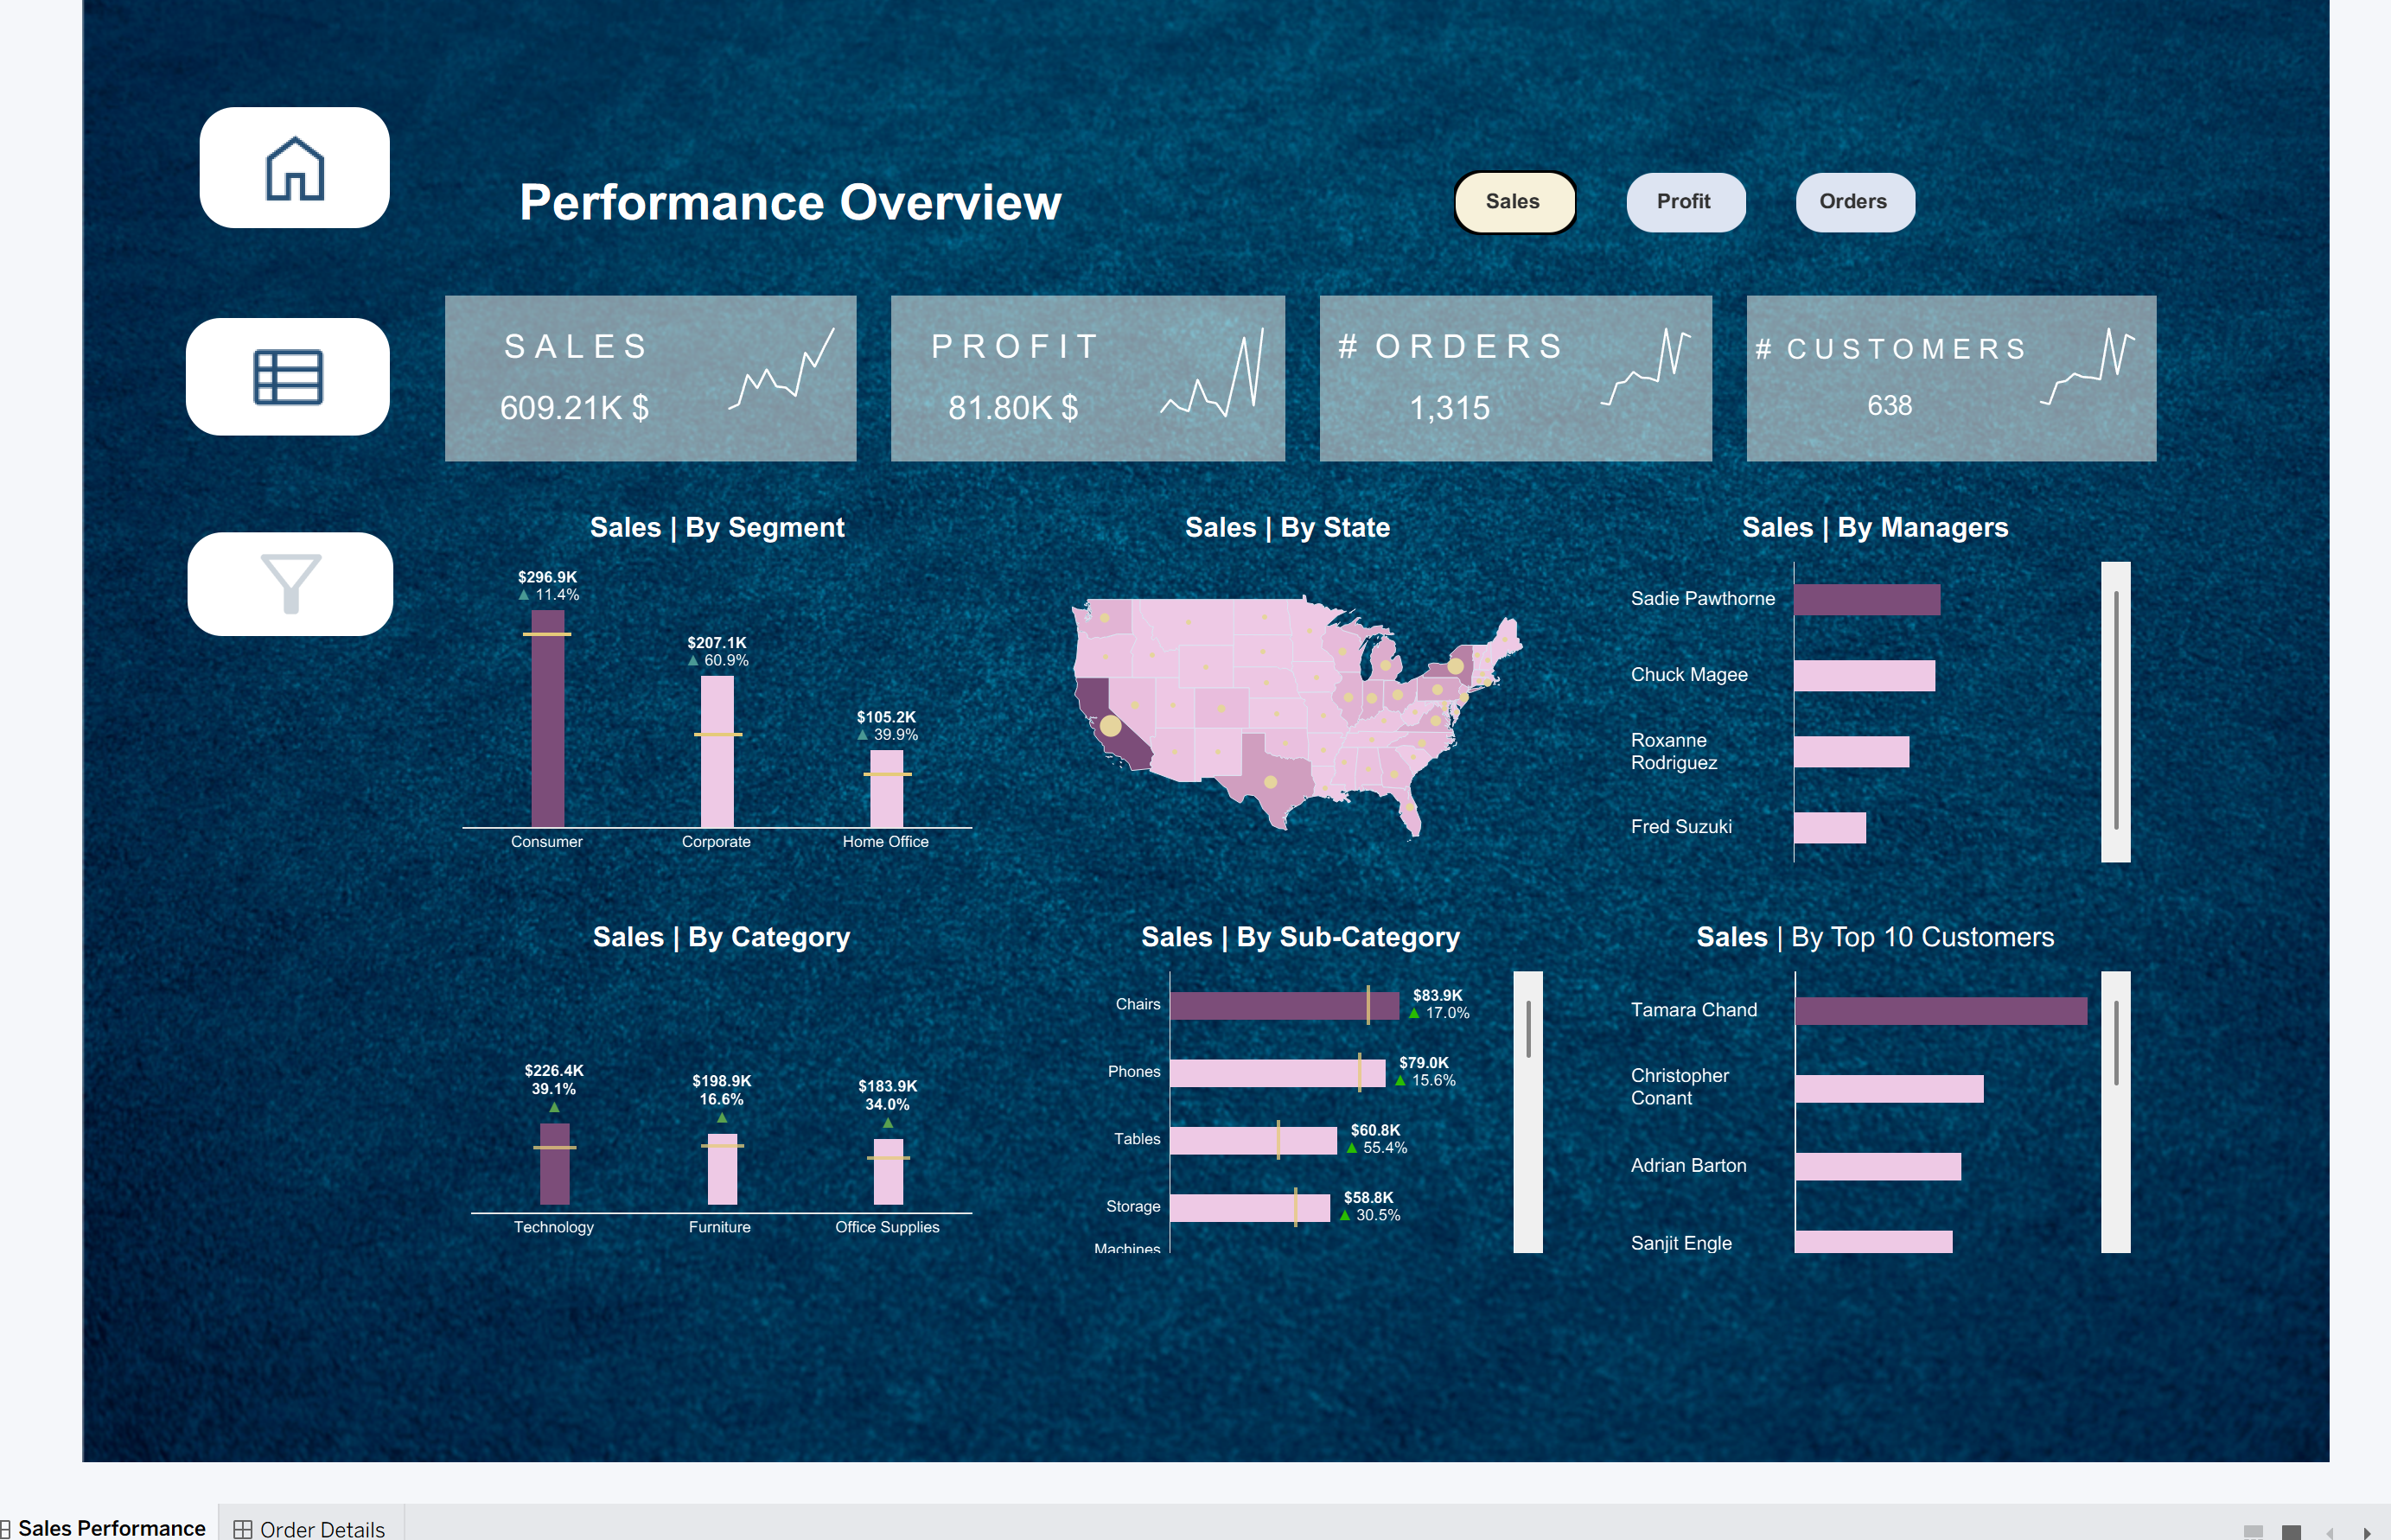

The page's visual inventory and layout, read from the dashboard file:
{"tool":"tableau","page":{"name":"Sales Performance","canvas":[1300,900],"ordinal":1},"visuals":[{"type":"image","param":"Image/pexels-turgay-koca-405356598-15307542.jpg","box":[0,0,1300,887]},{"type":"blank","box":[60,0,118,120]},{"type":"blank","box":[178,0,32,860]},{"type":"text","box":[210,0,990,88]},{"type":"dashboard-object","box":[68,92,110,70]},{"type":"blank","box":[60,120,118,93]},{"type":"text","box":[230,128,550,38]},{"type":"worksheet","title":"Metric Select","mark":"Shape","cols":["Calculation_1864208809272696834","Calculation_1864208809272696834","Calculation_1864208809272696834"],"box":[780,128,295,38]},{"type":"worksheet","title":"Sales KPI (BAN) New","mark":"Automatic","box":[210,206,150,86]},{"type":"worksheet","title":"Sales KPI (Line)","mark":"Automatic","rows":["Sales"],"cols":["Order Date"],"box":[370,206,68,71]},{"type":"worksheet","title":"Profit KPI (BAN)","mark":"Automatic","box":[468,206,142,86]},{"type":"worksheet","title":"Profit KPI (Line)","mark":"Automatic","rows":["Profit"],"cols":["Order Date"],"box":[620,206,66,71]},{"type":"worksheet","title":"Total Orders KPI (BAN)","mark":"Automatic","box":[716,206,149,86]},{"type":"worksheet","title":"Total Orders KPI (Area)","mark":"Automatic","rows":["Order ID"],"cols":["Order Date"],"box":[875,206,58,71]},{"type":"worksheet","title":"Total Customers KPI (BAN)","mark":"Automatic","box":[963,206,166,86]},{"type":"worksheet","title":"Total Customers KPI (Area)","mark":"Automatic","rows":["Customer Name"],"cols":["Order Date"],"box":[1129,206,71,86]},{"type":"blank","box":[60,213,118,1]},{"type":"dashboard-object","box":[60,214,118,68]},{"type":"filter","title":"Sales | By Segment","param":"[Sample - Superstore].[none:Segment:nk]","box":[60,282,118,49]},{"type":"worksheet","title":"Sales | By Segment","mark":"Bar","rows":["Calculation_1053842352063021057","Metric Swap Calc (CY) (copy)_1053842352063516674"],"cols":["Segment"],"box":[210,307,330,237]},{"type":"worksheet","title":"Sales | By State","mark":"Automatic","box":[540,307,330,237]},{"type":"worksheet","title":"Sales | By Manufacturer","mark":"Bar","rows":["Calculation_1864208809936994351","Regional Manager"],"cols":["Calculation_1053842352063021057","Calculation_1864208809940881457"],"box":[870,307,330,237]},{"type":"filter","title":"Sales | By Category","param":"[Sample - Superstore].[none:Category:nk]","box":[60,331,118,49]},{"type":"worksheet","title":"Filter","mark":"Shape","box":[61,338,119,60]},{"type":"filter","title":"Sales | By State","param":"[Sample - Superstore].[none:State/Province:nk]","box":[60,380,118,49]},{"type":"worksheet","title":"Sales | By Category","mark":"Bar","rows":["Calculation_1053842352063021057","Metric Swap Calc (CY) (copy)_1053842352063516674"],"cols":["Category"],"box":[210,544,330,226]},{"type":"worksheet","title":"Sales | By Sub-Category","mark":"Bar","rows":["Sub-Category"],"cols":["Calculation_1053842352063021057","Metric Swap Calc (CY) (copy)_1053842352063516674"],"box":[540,544,330,226]},{"type":"worksheet","title":"Sales | By Customer","mark":"Bar","rows":["Calculation_1864208809615847469","Customer Name"],"cols":["Calculation_1053842352063021057","Calculation_1053842352080576545"],"box":[870,544,330,226]}]}

Visuals, with their boxes on the page's 1300x900 design canvas (x1, y1, x2, y2). These are canvas units, not pixel positions in the 2391x1540 screenshot, which may show the page scaled, cropped or inside an application window:
image: detection(0, 0, 1300, 887)
blank: detection(60, 0, 178, 120)
blank: detection(178, 0, 210, 860)
text: detection(210, 0, 1200, 88)
dashboard-object: detection(68, 92, 178, 162)
blank: detection(60, 120, 178, 213)
text: detection(230, 128, 780, 166)
"Metric Select" worksheet (Shape marks): detection(780, 128, 1075, 166)
"Sales KPI (BAN) New" worksheet: detection(210, 206, 360, 292)
"Sales KPI (Line)" worksheet: detection(370, 206, 438, 277)
"Profit KPI (BAN)" worksheet: detection(468, 206, 610, 292)
"Profit KPI (Line)" worksheet: detection(620, 206, 686, 277)
"Total Orders KPI (BAN)" worksheet: detection(716, 206, 865, 292)
"Total Orders KPI (Area)" worksheet: detection(875, 206, 933, 277)
"Total Customers KPI (BAN)" worksheet: detection(963, 206, 1129, 292)
"Total Customers KPI (Area)" worksheet: detection(1129, 206, 1200, 292)
blank: detection(60, 213, 178, 214)
dashboard-object: detection(60, 214, 178, 282)
"Sales | By Segment" filter: detection(60, 282, 178, 331)
"Sales | By Segment" worksheet (Bar marks): detection(210, 307, 540, 544)
"Sales | By State" worksheet: detection(540, 307, 870, 544)
"Sales | By Manufacturer" worksheet (Bar marks): detection(870, 307, 1200, 544)
"Sales | By Category" filter: detection(60, 331, 178, 380)
"Filter" worksheet (Shape marks): detection(61, 338, 180, 398)
"Sales | By State" filter: detection(60, 380, 178, 429)
"Sales | By Category" worksheet (Bar marks): detection(210, 544, 540, 770)
"Sales | By Sub-Category" worksheet (Bar marks): detection(540, 544, 870, 770)
"Sales | By Customer" worksheet (Bar marks): detection(870, 544, 1200, 770)
